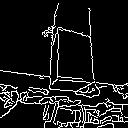cube: (36, 20, 107, 102)
